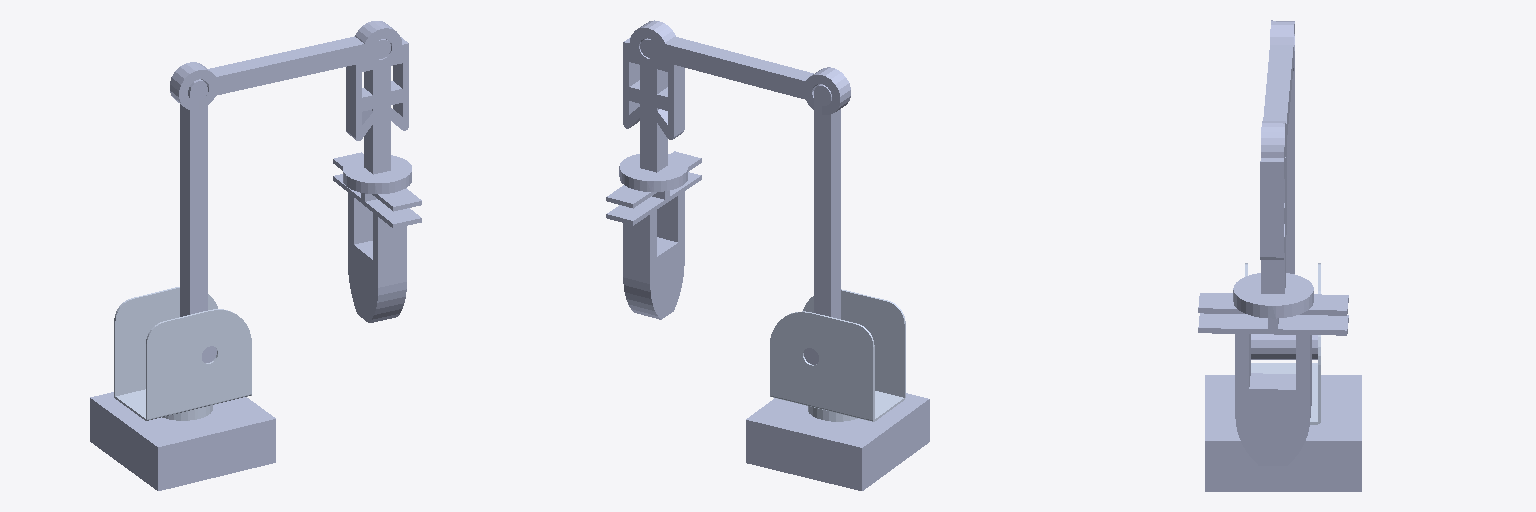
URDF robot description (arm_sim):
<?xml version="1.0" encoding="utf-8"?>
<robot
  name="arm_sim">
  <link
    name="base_link">
    <inertial>
      <origin
        xyz="1.0442E-18 -3.8397E-18 0.03"
        rpy="0 0 0" />
      <mass
        value="1.6962" />
      <inertia
        ixx="0.004536"
        ixy="-4.4723E-19"
        ixz="7.3177E-20"
        iyy="0.0045403"
        iyz="-1.3608E-19"
        izz="0.0080586" />
    </inertial>
    <visual>
      <origin
        xyz="0 0 0"
        rpy="0 0 0" />
      <geometry>
        <mesh
          filename="package://arm_sim/meshes/base_link.STL" />
      </geometry>
      <material
        name="">
        <color
          rgba="0.79216 0.81961 0.93333 1" />
      </material>
    </visual>
    <collision>
      <origin
        xyz="0 0 0"
        rpy="0 0 0" />
      <geometry>
        <mesh
          filename="package://arm_sim/meshes/base_link.STL" />
      </geometry>
    </collision>
  </link>
  <link
    name="link2">
    <inertial>
      <origin
        xyz="-0.0013242 -2.5266E-05 0.028196"
        rpy="0 0 0" />
      <mass
        value="0.55122" />
      <inertia
        ixx="0.0015705"
        ixy="-4.014E-06"
        ixz="5.5236E-05"
        iyy="0.0017808"
        iyz="1.0539E-06"
        izz="0.0013118" />
    </inertial>
    <visual>
      <origin
        xyz="0 0 0"
        rpy="0 0 0" />
      <geometry>
        <mesh
          filename="package://arm_sim/meshes/link2.STL" />
      </geometry>
      <material
        name="">
        <color
          rgba="0.86667 0.9098 1 1" />
      </material>
    </visual>
    <collision>
      <origin
        xyz="0 0 0"
        rpy="0 0 0" />
      <geometry>
        <mesh
          filename="package://arm_sim/meshes/link2.STL" />
      </geometry>
    </collision>
  </link>
  <joint
    name="base_joint"
    type="revolute">
    <origin
      xyz="0 0 0.078"
      rpy="0 0 -0.019078" />
    <parent
      link="base_link" />
    <child
      link="link2" />
    <axis
      xyz="0 0 1" />
    <limit
      lower="-1.57"
      upper="1.57"
      effort="300"
      velocity="3" />
  </joint>
  <link
    name="link3">
    <inertial>
      <origin
        xyz="6.6766E-06 -0.00034991 0.13252"
        rpy="0 0 0" />
      <mass
        value="0.31459" />
      <inertia
        ixx="0.0045719"
        ixy="6.499E-07"
        ixz="-1.1932E-07"
        iyy="0.0045379"
        iyz="6.2533E-06"
        izz="7.6719E-05" />
    </inertial>
    <visual>
      <origin
        xyz="0 0 0"
        rpy="0 0 0" />
      <geometry>
        <mesh
          filename="package://arm_sim/meshes/link3.STL" />
      </geometry>
      <material
        name="">
        <color
          rgba="0.79216 0.81961 0.93333 1" />
      </material>
    </visual>
    <collision>
      <origin
        xyz="0 0 0"
        rpy="0 0 0" />
      <geometry>
        <mesh
          filename="package://arm_sim/meshes/link3.STL" />
      </geometry>
    </collision>
  </link>
  <joint
    name="shoulder_joint"
    type="revolute">
    <origin
      xyz="0.014997 0.00028616 0.067144"
      rpy="0 0 0" />
    <parent
      link="link2" />
    <child
      link="link3" />
    <axis
      xyz="0.019077 -0.99982 0" />
    <limit
      lower="-1.57"
      upper="1.57"
      effort="200"
      velocity="3" />
  </joint>
  <link
    name="link4">
    <inertial>
      <origin
        xyz="0 -0.0005 0.11492"
        rpy="0 0 0" />
      <mass
        value="0.19742" />
      <inertia
        ixx="0.001482"
        ixy="-1.8168E-21"
        ixz="3.965E-21"
        iyy="0.0014901"
        iyz="7.6709E-20"
        izz="2.9301E-05" />
    </inertial>
    <visual>
      <origin
        xyz="0 0 0"
        rpy="0 0 0" />
      <geometry>
        <mesh
          filename="package://arm_sim/meshes/link4.STL" />
      </geometry>
      <material
        name="">
        <color
          rgba="0.79216 0.81961 0.93333 1" />
      </material>
    </visual>
    <collision>
      <origin
        xyz="0 0 0"
        rpy="0 0 0" />
      <geometry>
        <mesh
          filename="package://arm_sim/meshes/link4.STL" />
      </geometry>
    </collision>
  </link>
  <joint
    name="elbow_joint"
    type="revolute">
    <origin
      xyz="0 0 0.35"
      rpy="0.019078 1.5708 0" />
    <parent
      link="link3" />
    <child
      link="link4" />
    <axis
      xyz="0 -1 0" />
    <limit
      lower="0"
      upper="3.142"
      effort="200"
      velocity="3" />
  </joint>
  <link
    name="link5">
    <inertial>
      <origin
        xyz="-9.5387E-06 -0.00049991 0.063861"
        rpy="0 0 0" />
      <mass
        value="0.22542" />
      <inertia
        ixx="0.00056172"
        ixy="1.4841E-06"
        ixz="4.6152E-20"
        iyy="0.00063947"
        iyz="-7.2242E-20"
        izz="0.00010213" />
    </inertial>
    <visual>
      <origin
        xyz="0 0 0"
        rpy="0 0 0" />
      <geometry>
        <mesh
          filename="package://arm_sim/meshes/link5.STL" />
      </geometry>
      <material
        name="">
        <color
          rgba="0.79216 0.81961 0.93333 1" />
      </material>
    </visual>
    <collision>
      <origin
        xyz="0 0 0"
        rpy="0 0 0" />
      <geometry>
        <mesh
          filename="package://arm_sim/meshes/link5.STL" />
      </geometry>
    </collision>
  </link>
  <joint
    name="wrist_joint"
    type="revolute">
    <origin
      xyz="0 0 0.25654"
      rpy="1.5708 1.5517 1.5708" />
    <parent
      link="link4" />
    <child
      link="link5" />
    <axis
      xyz="-0.019077 -0.99982 0" />
    <limit
      lower="0"
      upper="+3.142"
      effort="200"
      velocity="3" />
  </joint>
  <link
    name="link6">
    <inertial>
      <origin
        xyz="-5.5511E-17 -2.6021E-18 0.0036393"
        rpy="0 0 0" />
      <mass
        value="0.17113" />
      <inertia
        ixx="0.00024193"
        ixy="-2.9599E-06"
        ixz="8.4614E-21"
        iyy="8.6859E-05"
        iyz="1.1435E-19"
        izz="0.00026021" />
    </inertial>
    <visual>
      <origin
        xyz="0 0 0"
        rpy="0 0 0" />
      <geometry>
        <mesh
          filename="package://arm_sim/meshes/link6.STL" />
      </geometry>
      <material
        name="">
        <color
          rgba="0.79216 0.81961 0.93333 1" />
      </material>
    </visual>
    <collision>
      <origin
        xyz="0 0 0"
        rpy="0 0 0" />
      <geometry>
        <mesh
          filename="package://arm_sim/meshes/link6.STL" />
      </geometry>
    </collision>
  </link>
  <joint
    name="roller_joint"
    type="revolute">
    <origin
      xyz="0 -0.00049991 0.18293"
      rpy="0 0 0" />
    <parent
      link="link5" />
    <child
      link="link6" />
    <axis
      xyz="0 0 -1" />
    <limit
      lower="0"
      upper="3.142"
      effort="200"
      velocity="3" />
  </joint>
  <link
    name="link7">
    <inertial>
      <origin
        xyz="-0.00041481 -0.02174 0.088764"
        rpy="0 0 0" />
      <mass
        value="0.16747" />
      <inertia
        ixx="0.00027682"
        ixy="-1.1382E-08"
        ixz="-7.605E-07"
        iyy="0.00027622"
        iyz="-3.9857E-05"
        izz="4.5256E-05" />
    </inertial>
    <visual>
      <origin
        xyz="0 0 0"
        rpy="0 0 0" />
      <geometry>
        <mesh
          filename="package://arm_sim/meshes/link7.STL" />
      </geometry>
      <material
        name="">
        <color
          rgba="0.79216 0.81961 0.93333 1" />
      </material>
    </visual>
    <collision>
      <origin
        xyz="0 0 0"
        rpy="0 0 0" />
      <geometry>
        <mesh
          filename="package://arm_sim/meshes/link7.STL" />
      </geometry>
    </collision>
  </link>
  <joint
    name="gripper_joint1"
    type="prismatic">
    <origin
      xyz="0 0 0.029647"
      rpy="0 0 0" />
    <parent
      link="link6" />
    <child
      link="link7" />
    <axis
      xyz="-0.019077 -0.99982 0" />
    <limit
      lower="0"
      upper="0.05"
      effort="100"
      velocity="3" />
  </joint>
  <link
    name="link8">
    <inertial>
      <origin
        xyz="0.00041481 0.02174 0.088764"
        rpy="0 0 0" />
      <mass
        value="0.16747" />
      <inertia
        ixx="0.00027682"
        ixy="-1.1382E-08"
        ixz="7.605E-07"
        iyy="0.00027622"
        iyz="3.9857E-05"
        izz="4.5256E-05" />
    </inertial>
    <visual>
      <origin
        xyz="0 0 0"
        rpy="0 0 0" />
      <geometry>
        <mesh
          filename="package://arm_sim/meshes/link8.STL" />
      </geometry>
      <material
        name="">
        <color
          rgba="0.79216 0.81961 0.93333 1" />
      </material>
    </visual>
    <collision>
      <origin
        xyz="0 0 0"
        rpy="0 0 0" />
      <geometry>
        <mesh
          filename="package://arm_sim/meshes/link8.STL" />
      </geometry>
    </collision>
  </link>
  <joint
    name="gripper_joint2"
    type="prismatic">
    <origin
      xyz="0 0 0.029647"
      rpy="0 0 0" />
    <parent
      link="link6" />
    <child
      link="link8" />
    <axis
      xyz="-0.019077 -0.99982 0" />
    <limit
      lower="-0.05"
      upper="0"
      effort="100"
      velocity="3" />
    <mimic joint="gripper_joint1" multiplier="-1" offset="0" />
  </joint>
</robot>

--- Render facts (derived) ---
3 views of the same robot in one strip: view 1: azimuth 30°, elevation 25°; view 2: azimuth 150°, elevation 25°; view 3: azimuth 270°, elevation 25° (orthographic).
Robot: arm_sim — 8 links, 7 joints (5 revolute, 2 prismatic); root link base_link; default pose: every joint at zero.
Links seen in each view (by area): view 1: link2, base_link, link5, link3, link4, link6, link7, link8; view 2: link2, base_link, link5, link3, link4, link6, link8, link7; view 3: base_link, link6, link5, link7, link8, link3, link4, link2.
Boxes of the visible links, left/top/right/bottom form: link2: left=114, top=287, right=251, bottom=420; base_link: left=90, top=392, right=275, bottom=490; link5: left=346, top=21, right=408, bottom=174; link3: left=180, top=79, right=216, bottom=362; link4: left=170, top=36, right=390, bottom=109; link6: left=333, top=152, right=421, bottom=228; link7: left=363, top=213, right=406, bottom=322; link8: left=348, top=193, right=372, bottom=317; link2: left=770, top=289, right=905, bottom=421; base_link: left=746, top=393, right=929, bottom=490; link5: left=623, top=20, right=684, bottom=172; link3: left=804, top=84, right=840, bottom=364; link4: left=640, top=37, right=850, bottom=114; link6: left=606, top=151, right=701, bottom=225; link8: left=623, top=210, right=666, bottom=319; link7: left=657, top=191, right=684, bottom=315; base_link: left=1205, top=375, right=1361, bottom=491; link6: left=1198, top=273, right=1348, bottom=335; link5: left=1260, top=121, right=1286, bottom=293; link7: left=1235, top=334, right=1273, bottom=465; link8: left=1273, top=335, right=1311, bottom=465; link3: left=1251, top=34, right=1317, bottom=359; link4: left=1263, top=20, right=1294, bottom=156; link2: left=1245, top=263, right=1320, bottom=424.
Bounding box of the posed robot: 0.3988 × 0.1752 × 0.5234 m (x, y, z).
8 mesh visuals loaded from 8 distinct referenced files (8 binary STL).
